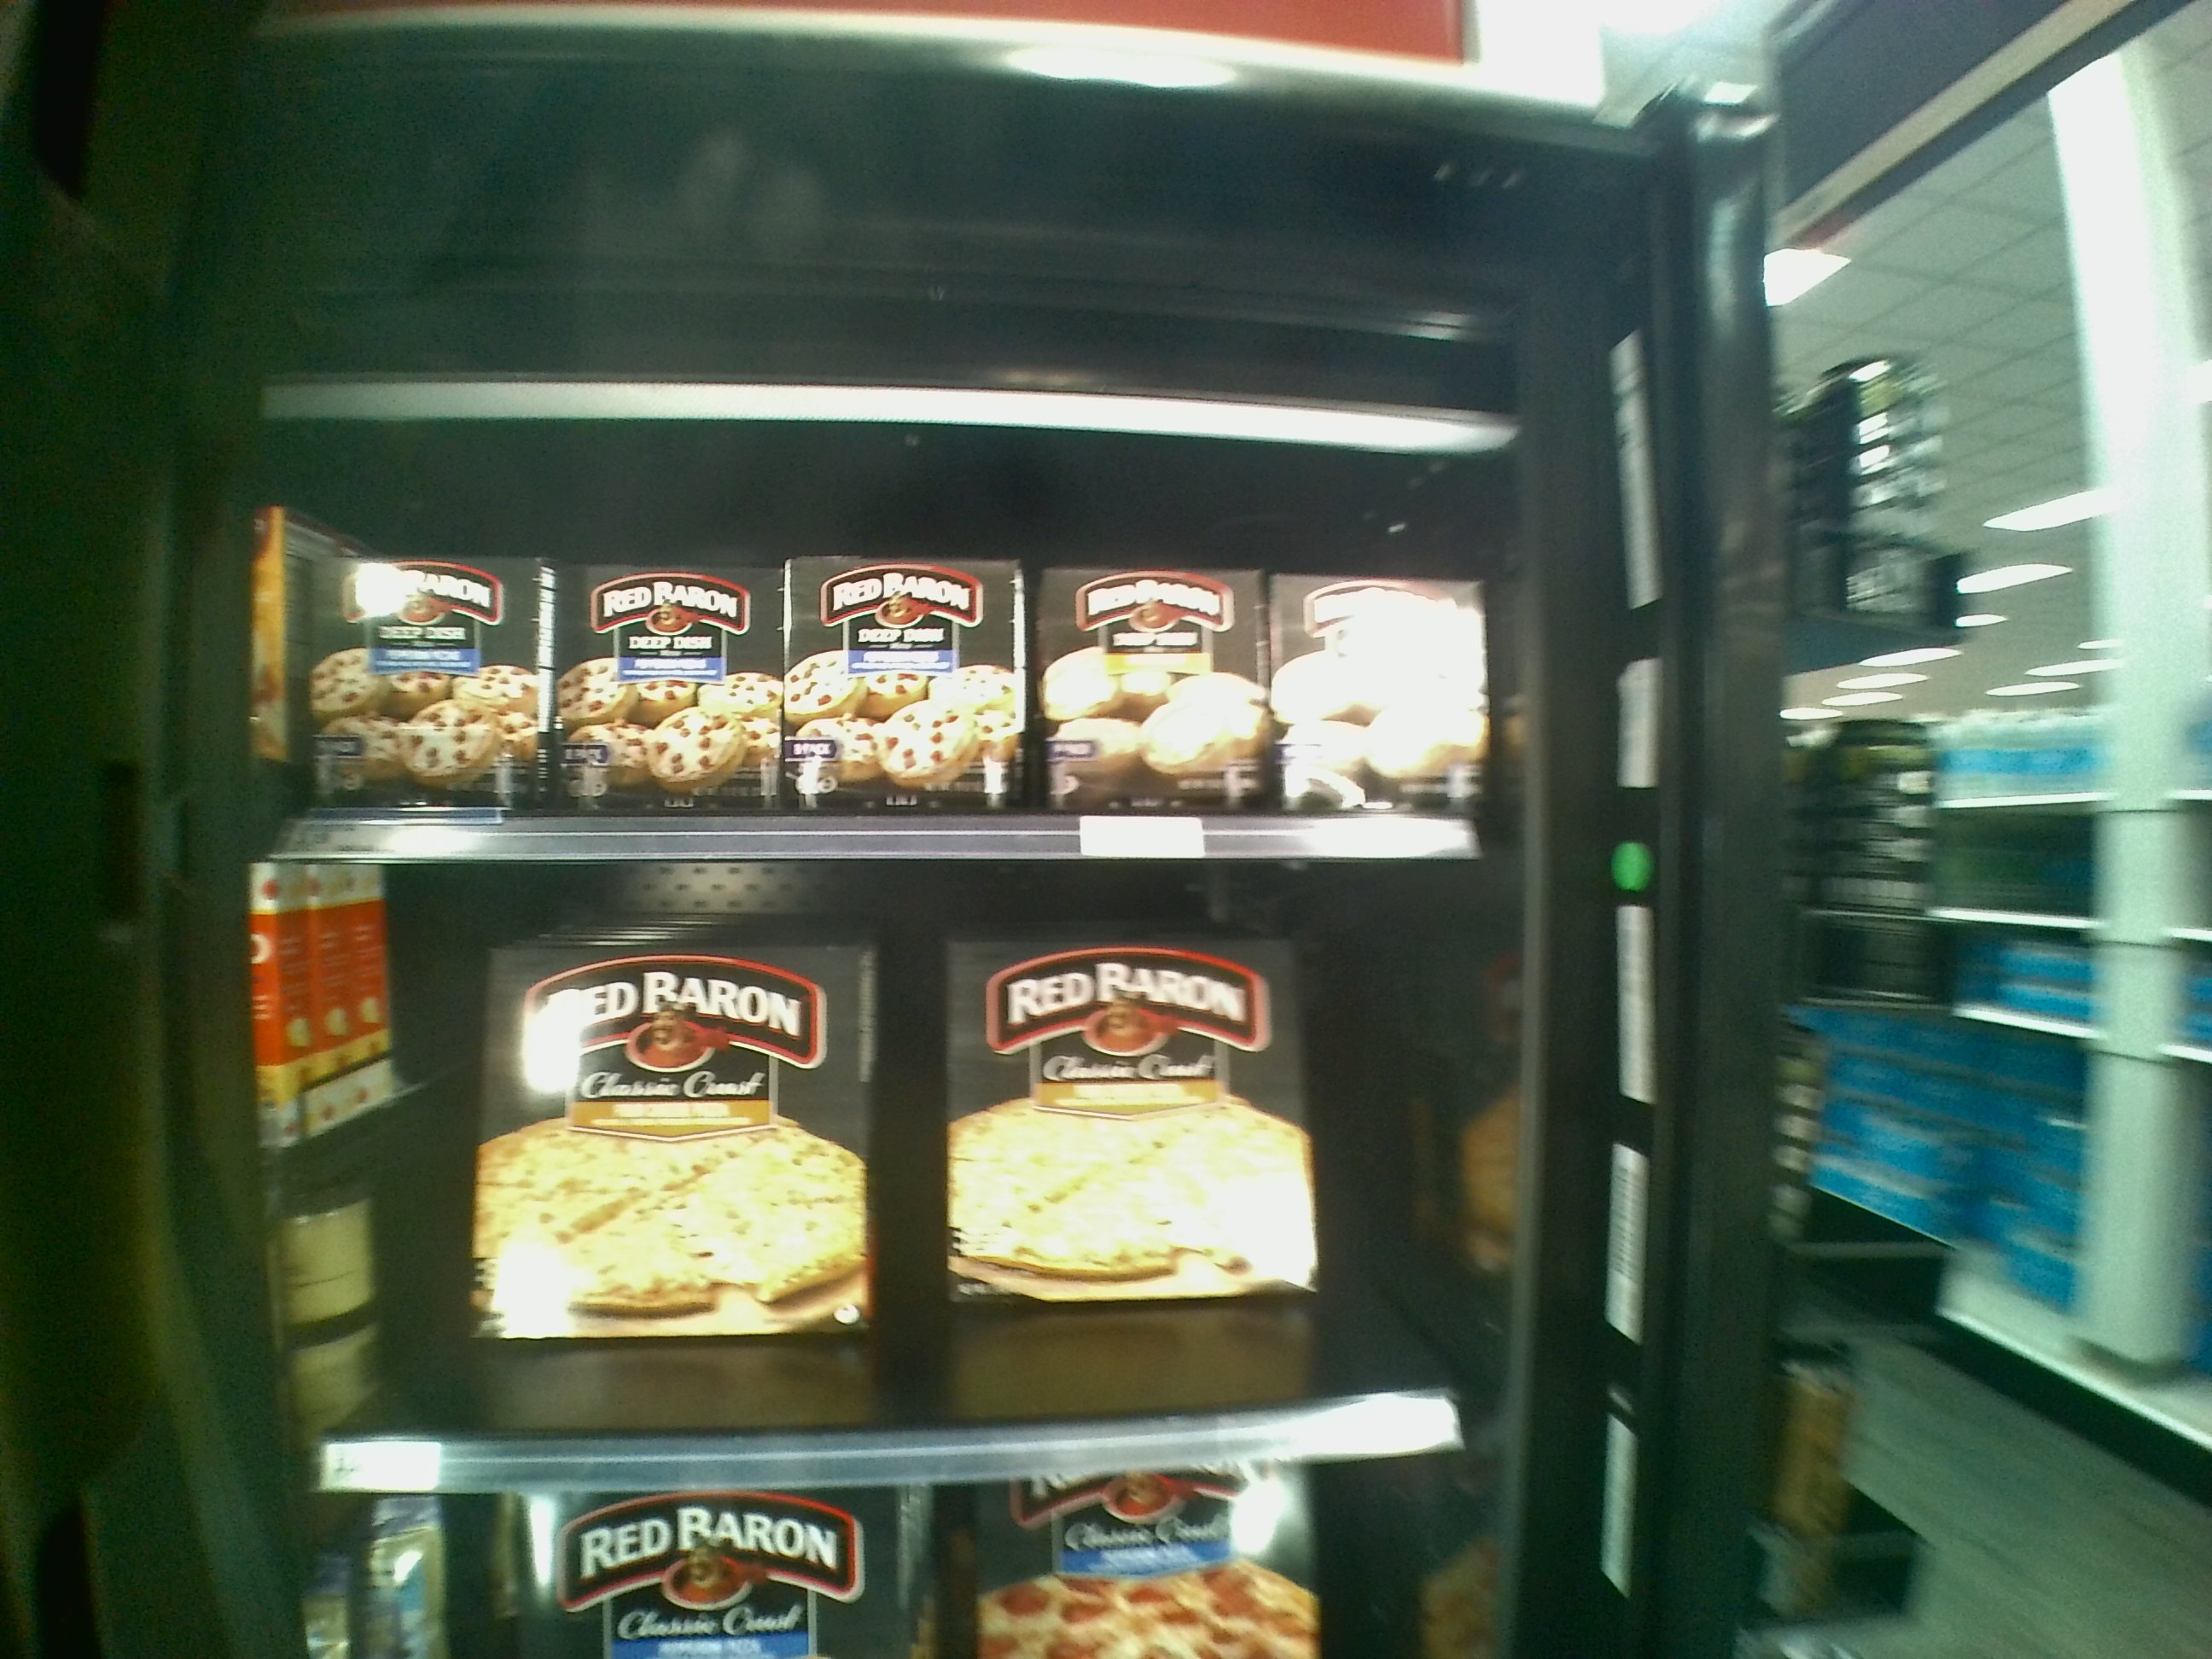shelf: (307, 856, 1480, 1485), (286, 415, 1501, 863)
